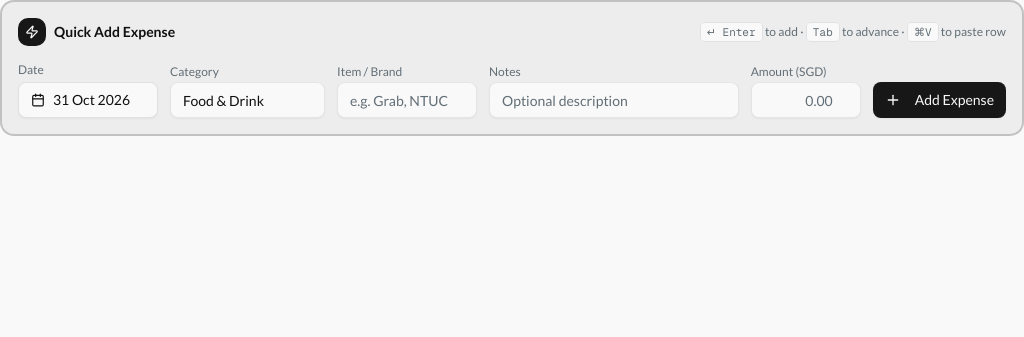
Test: ExpenseQuickAdd reset-on-submit › clears the form immediately on submit without waiting for the save to settle
Type "Grab" into the field with placeholder "e.g. Grab, NTUC" at coordinates (407, 100), box [337,82,477,118]
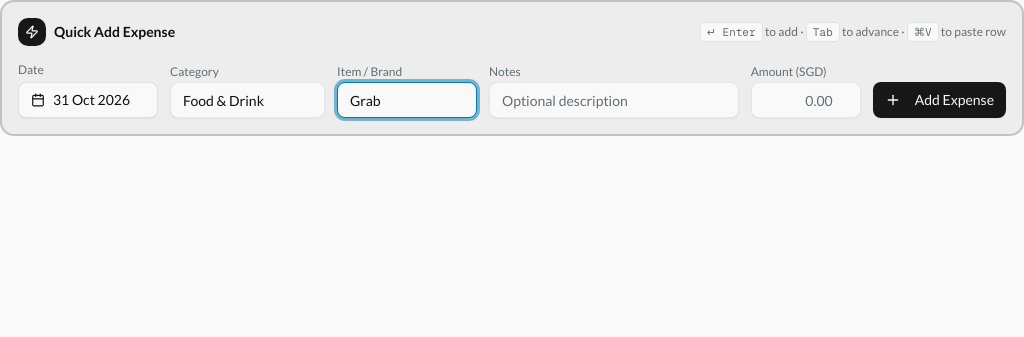
Type "12" into the number field with placeholder "0.00" at coordinates (806, 100), box [751,82,861,118]
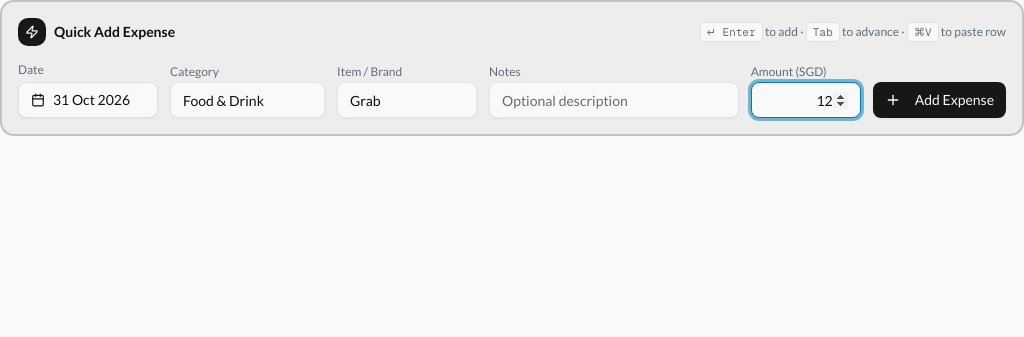
Click the button "Add Expense" at coordinates (939, 100), box [873,82,1006,118]
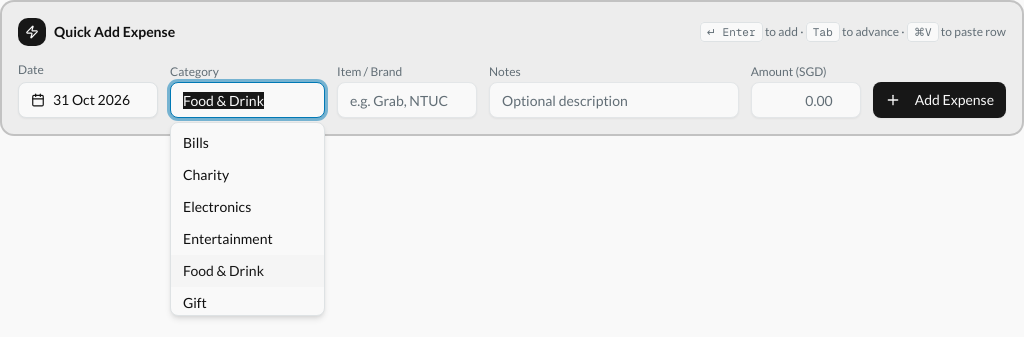
Expected: the field with placeholder "e.g. Grab, NTUC" is empty, [337,82,477,118]
Expected: the number field with placeholder "0.00" is not empty, [751,82,861,118]
